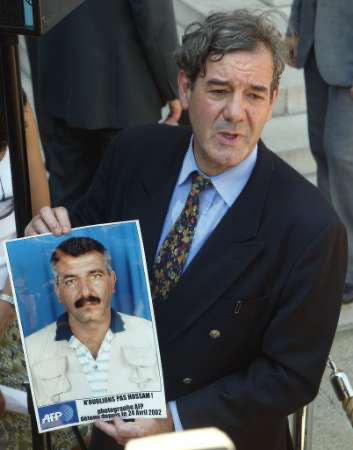Face: (190, 55, 274, 166), (48, 252, 117, 323)
